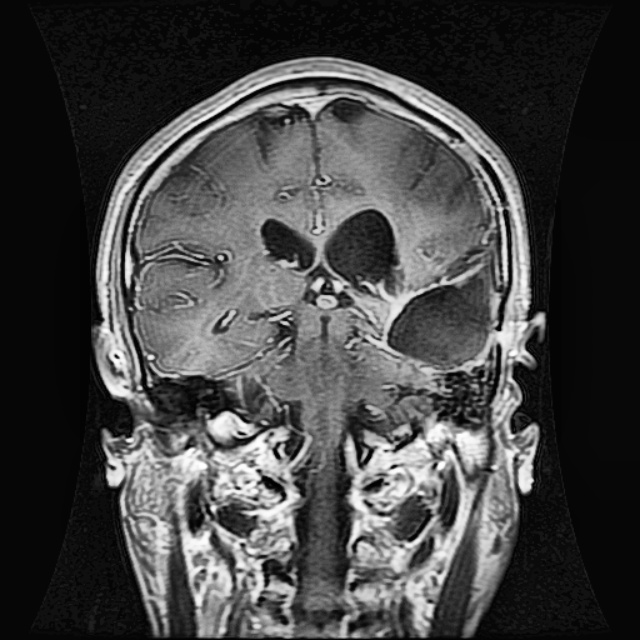Meningioma: (320, 207, 504, 374)
